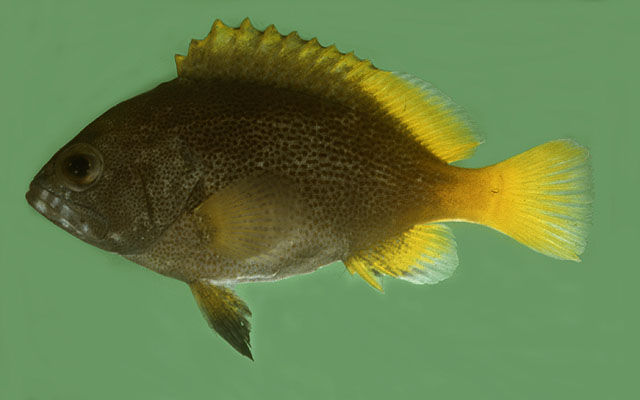fish: (25, 16, 597, 363)
